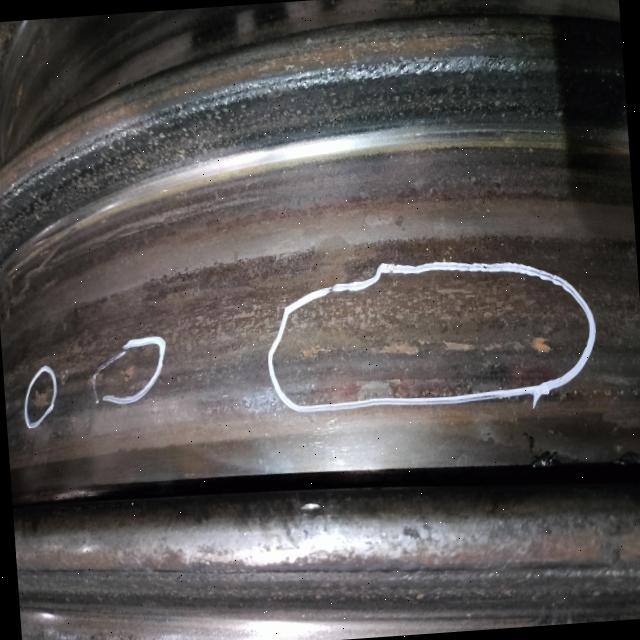Contact_Fatigue_Cracks: (1, 208, 88, 325)
Peeling: (263, 271, 578, 399), (22, 328, 101, 418), (110, 348, 153, 394)
